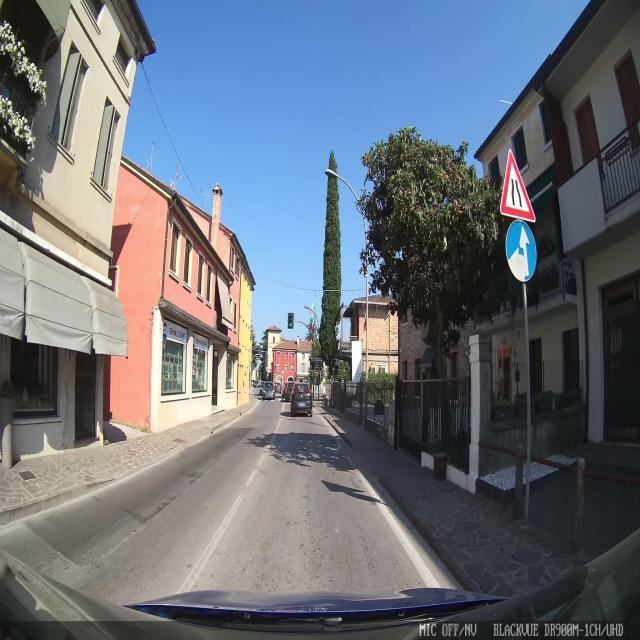car: (290, 380, 312, 418), (259, 379, 276, 400), (286, 379, 296, 399)
